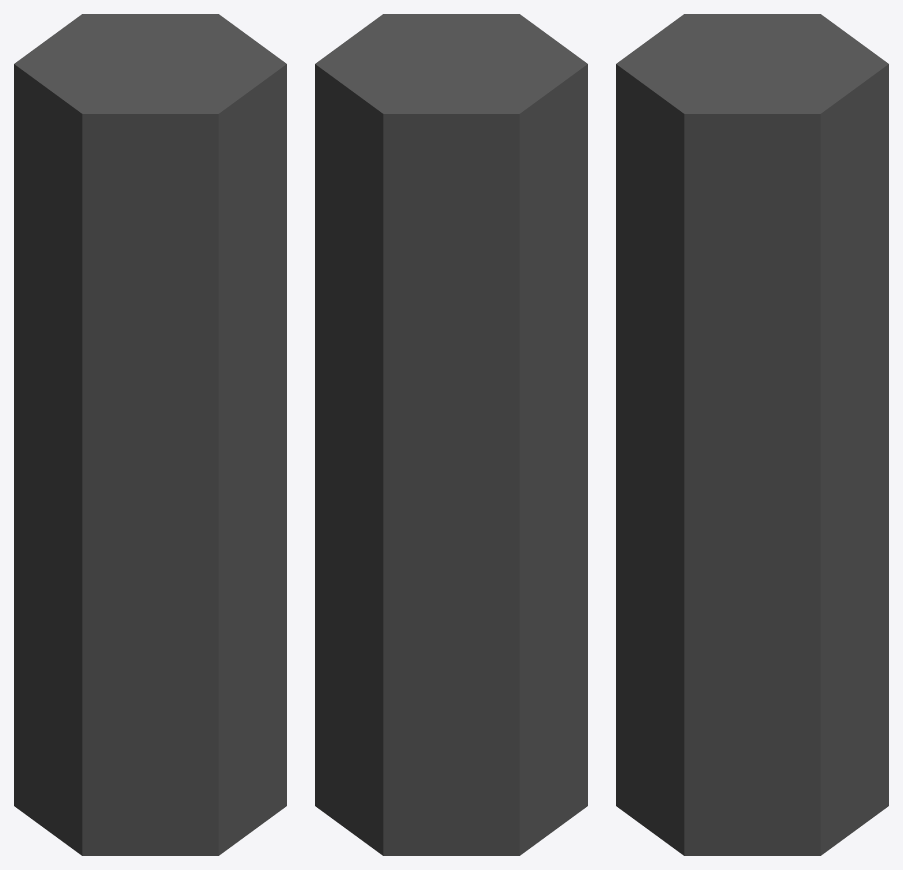
Rendered from pilar4.obj.
3 views of the same model, side by side, from view 1: azimuth 30°, elevation 25°; view 2: azimuth 150°, elevation 25°; view 3: azimuth 270°, elevation 25° (orthographic).
Visible parts, largest first — view 1: Cylinder.009; view 2: Cylinder.009; view 3: Cylinder.009.
Part boxes in pixels (x1=…): Cylinder.009: x1=14, y1=14, x2=286, y2=855; Cylinder.009: x1=315, y1=14, x2=587, y2=855; Cylinder.009: x1=616, y1=14, x2=888, y2=855.
Size of the model in its own units: 1.73 by 6 by 2.
1 material, 1 textured.
